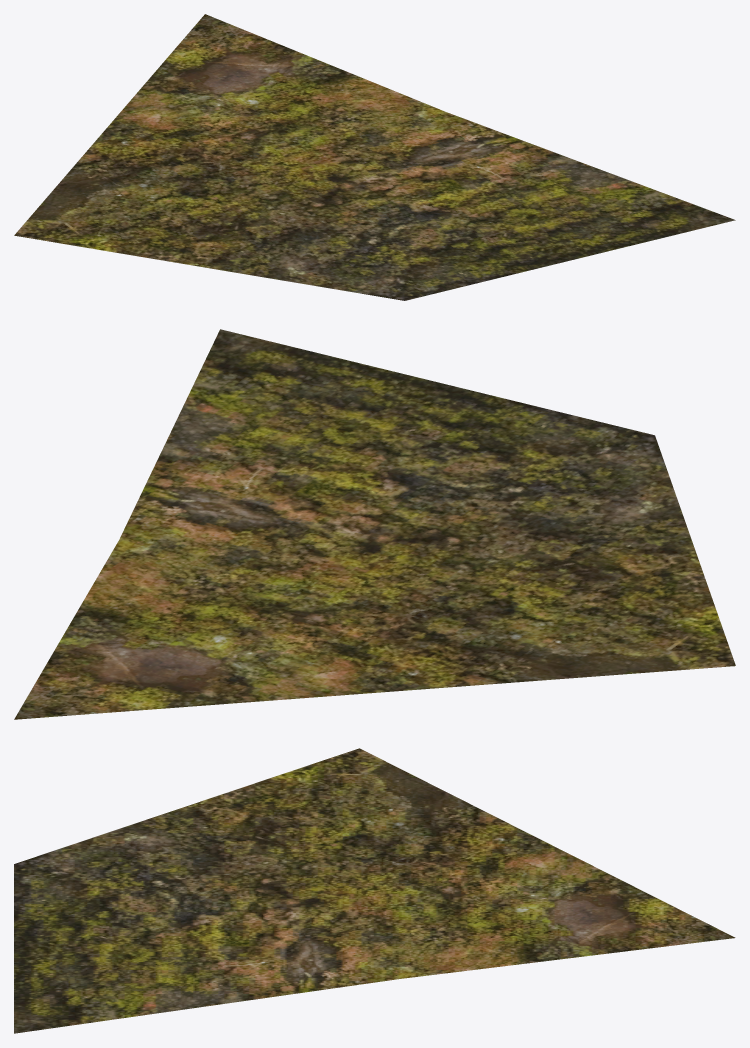
File: moss_float07.dae
3 renders of one model, top to bottom at view 1: azimuth 30°, elevation 25°; view 2: azimuth 150°, elevation 25°; view 3: azimuth 270°, elevation 25°, orthographic. The views are drawn at different scales.
Visible parts, largest first — view 1: 07; view 2: 07; view 3: 07.
Boxes of the visible parts, left/top/right/bottom form: 07: left=14, top=14, right=735, bottom=300; 07: left=14, top=329, right=735, bottom=719; 07: left=14, top=748, right=735, bottom=1033.
Bounding box in the file's own units: 1.71 × 0 × 1.83.
